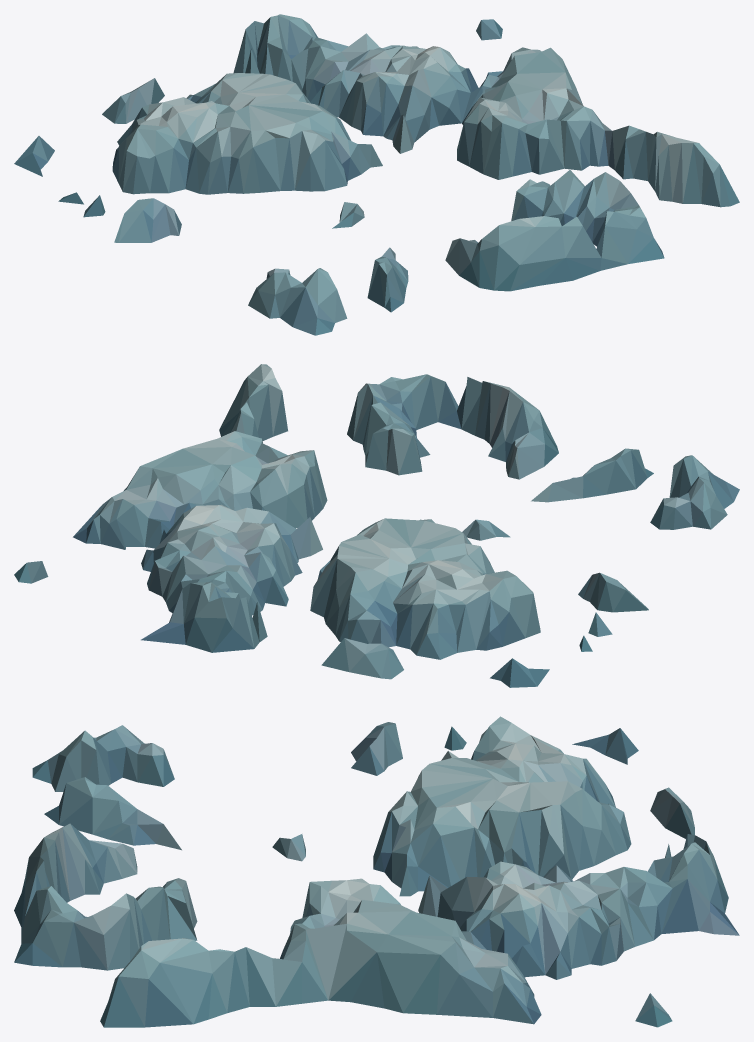
Rendered from Iceberg_A.fbx.
3 renders of one model, top to bottom at view 1: azimuth 30°, elevation 25°; view 2: azimuth 150°, elevation 25°; view 3: azimuth 270°, elevation 25°, orthographic. The views are drawn at different scales.
Parts seen in each view (by area): view 1: Iceberg_A; view 2: Iceberg_A; view 3: Iceberg_A.
Boxes of the visible parts, left/top/right/bottom form: Iceberg_A: left=14, top=14, right=739, bottom=335; Iceberg_A: left=14, top=364, right=739, bottom=687; Iceberg_A: left=14, top=716, right=739, bottom=1027.
Bounding box in the file's own units: 9200 × 950 × 9700.
